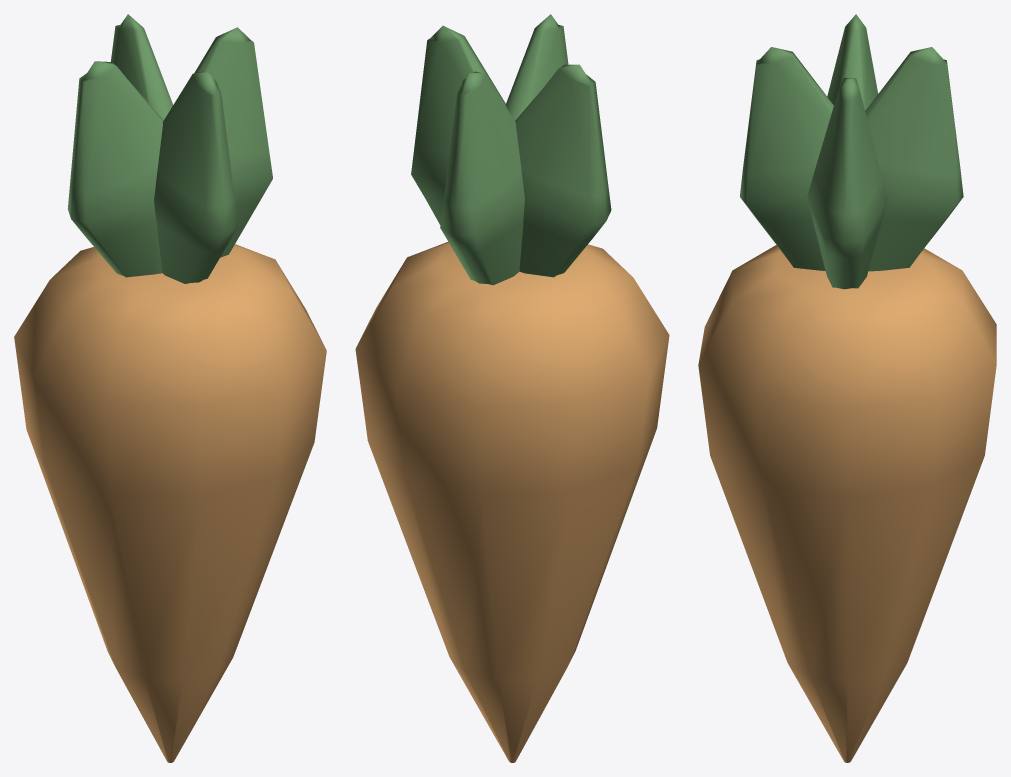
File: carrot.fbx
The picture shows the model from 3 angles, left to right: view 1: azimuth 30°, elevation 25°; view 2: azimuth 150°, elevation 25°; view 3: azimuth 270°, elevation 25°; orthographic projection.
Parts seen in each view (by area): view 1: pCylinder2; view 2: pCylinder2; view 3: pCylinder2.
Part boxes in pixels (bbox=[...]): pCylinder2: bbox=[14, 14, 326, 762]; pCylinder2: bbox=[355, 14, 669, 762]; pCylinder2: bbox=[698, 14, 996, 762].
Size of the model in its own units: 1.97 by 4.97 by 1.88.
